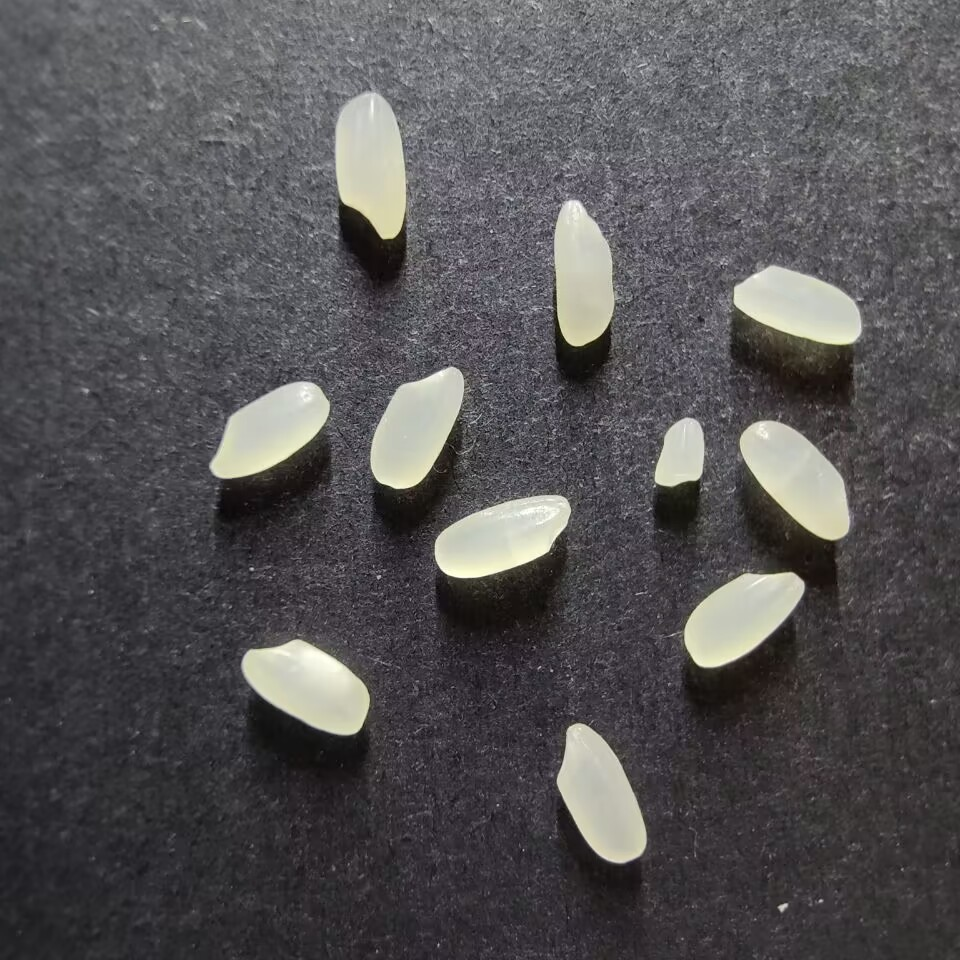broken: (652, 417, 705, 487)
rice: (738, 420, 850, 540), (556, 722, 646, 864), (240, 638, 370, 735), (209, 381, 330, 479), (683, 571, 805, 668), (369, 366, 464, 489), (433, 494, 570, 578), (334, 92, 406, 240), (732, 265, 862, 344), (552, 199, 614, 346)
